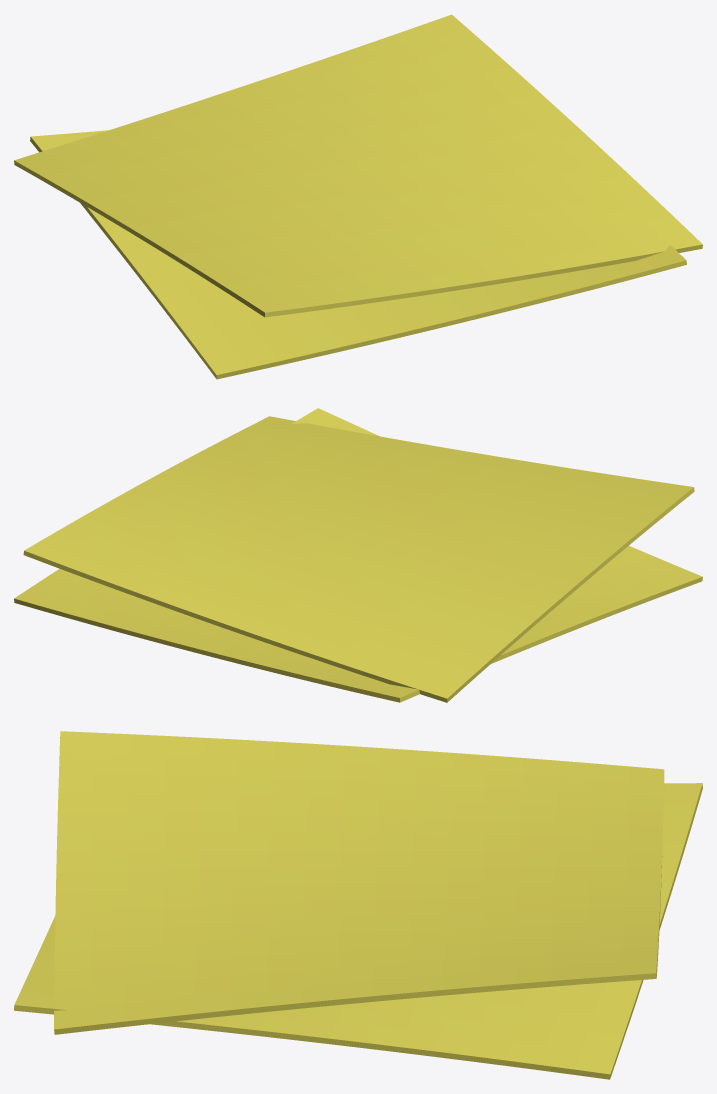
Rendered from 2Postit.fbx.
The picture shows the model from 3 angles, top to bottom: view 1: azimuth 30°, elevation 25°; view 2: azimuth 150°, elevation 25°; view 3: azimuth 270°, elevation 25°; orthographic projection. The views are drawn at different scales.
Visible parts, largest first — view 1: Plane.001, Plane.002; view 2: Plane.001, Plane.002; view 3: Plane.001, Plane.002.
Boxes of the visible parts, box(x1,y1,x2,y2) form: Plane.001: box(14, 14, 702, 317); Plane.002: box(30, 130, 686, 379); Plane.001: box(23, 416, 694, 702); Plane.002: box(14, 408, 702, 702); Plane.001: box(54, 731, 664, 1034); Plane.002: box(14, 783, 702, 1079).
Bounding box in the file's own units: 226 × 37.37 × 228.
